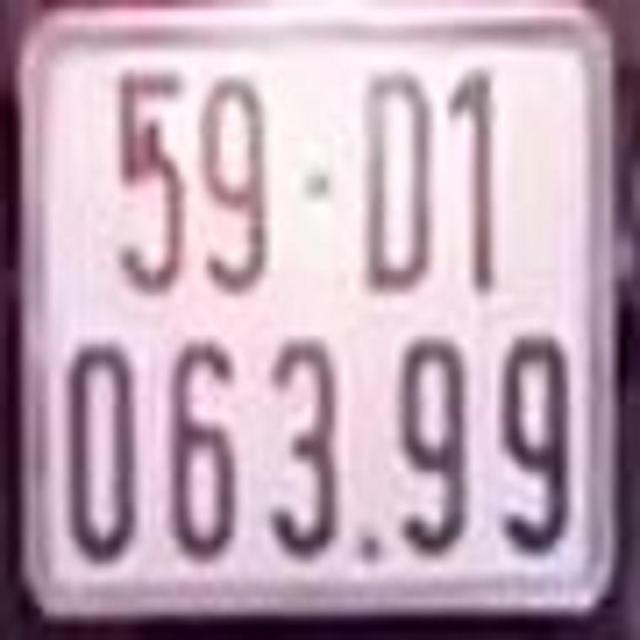0: (64, 344, 144, 558)
1: (448, 58, 499, 289)
3: (264, 338, 339, 554)
5: (113, 61, 183, 286)
6: (164, 337, 238, 554)
9: (400, 333, 468, 554), (206, 74, 270, 281), (507, 333, 568, 550)
D: (364, 70, 436, 286)
